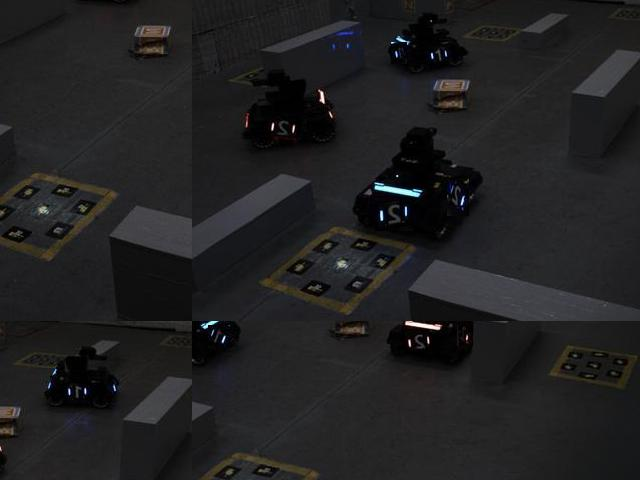armor: (375, 198, 414, 232), (448, 179, 471, 218), (269, 116, 304, 141), (405, 331, 434, 356), (208, 326, 231, 350), (65, 384, 92, 403), (427, 45, 450, 65), (391, 43, 408, 66), (457, 326, 474, 348)
